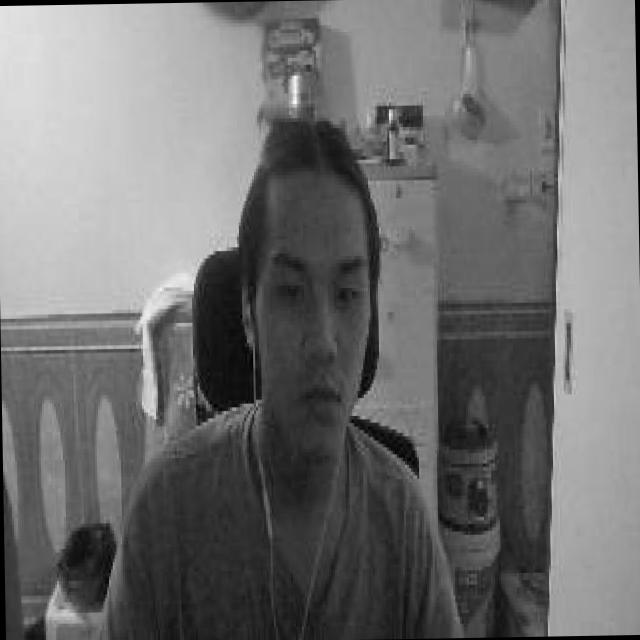Focused: (258, 161, 366, 465)
